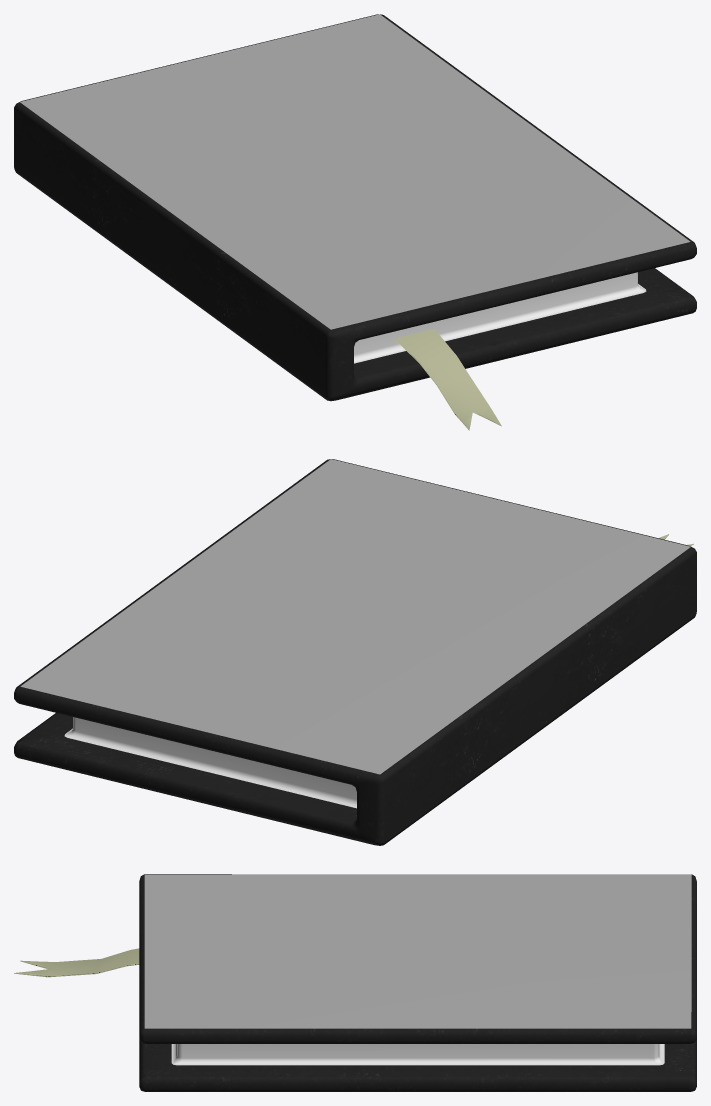
Rendered from Book 1.fbx.
3 renders of one model, top to bottom at view 1: azimuth 30°, elevation 25°; view 2: azimuth 150°, elevation 25°; view 3: azimuth 270°, elevation 25°, orthographic. The views are drawn at different scales.
Visible parts, largest first — view 1: Book; view 2: Book; view 3: Book.
Boxes of the visible parts, x1,y1,x2,y2 form: Book: (14,14,696,430); Book: (14,459,696,845); Book: (14,874,696,1091).
Size of the model in its own units: 50.53 by 9.31 by 91.7.
